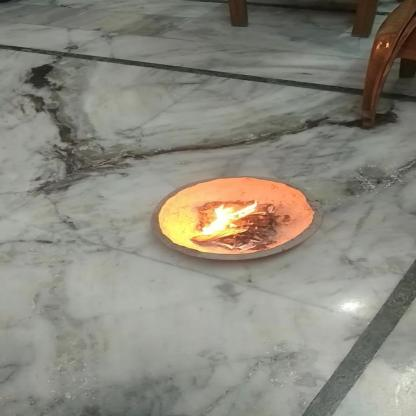fire: (195, 198, 265, 239)
